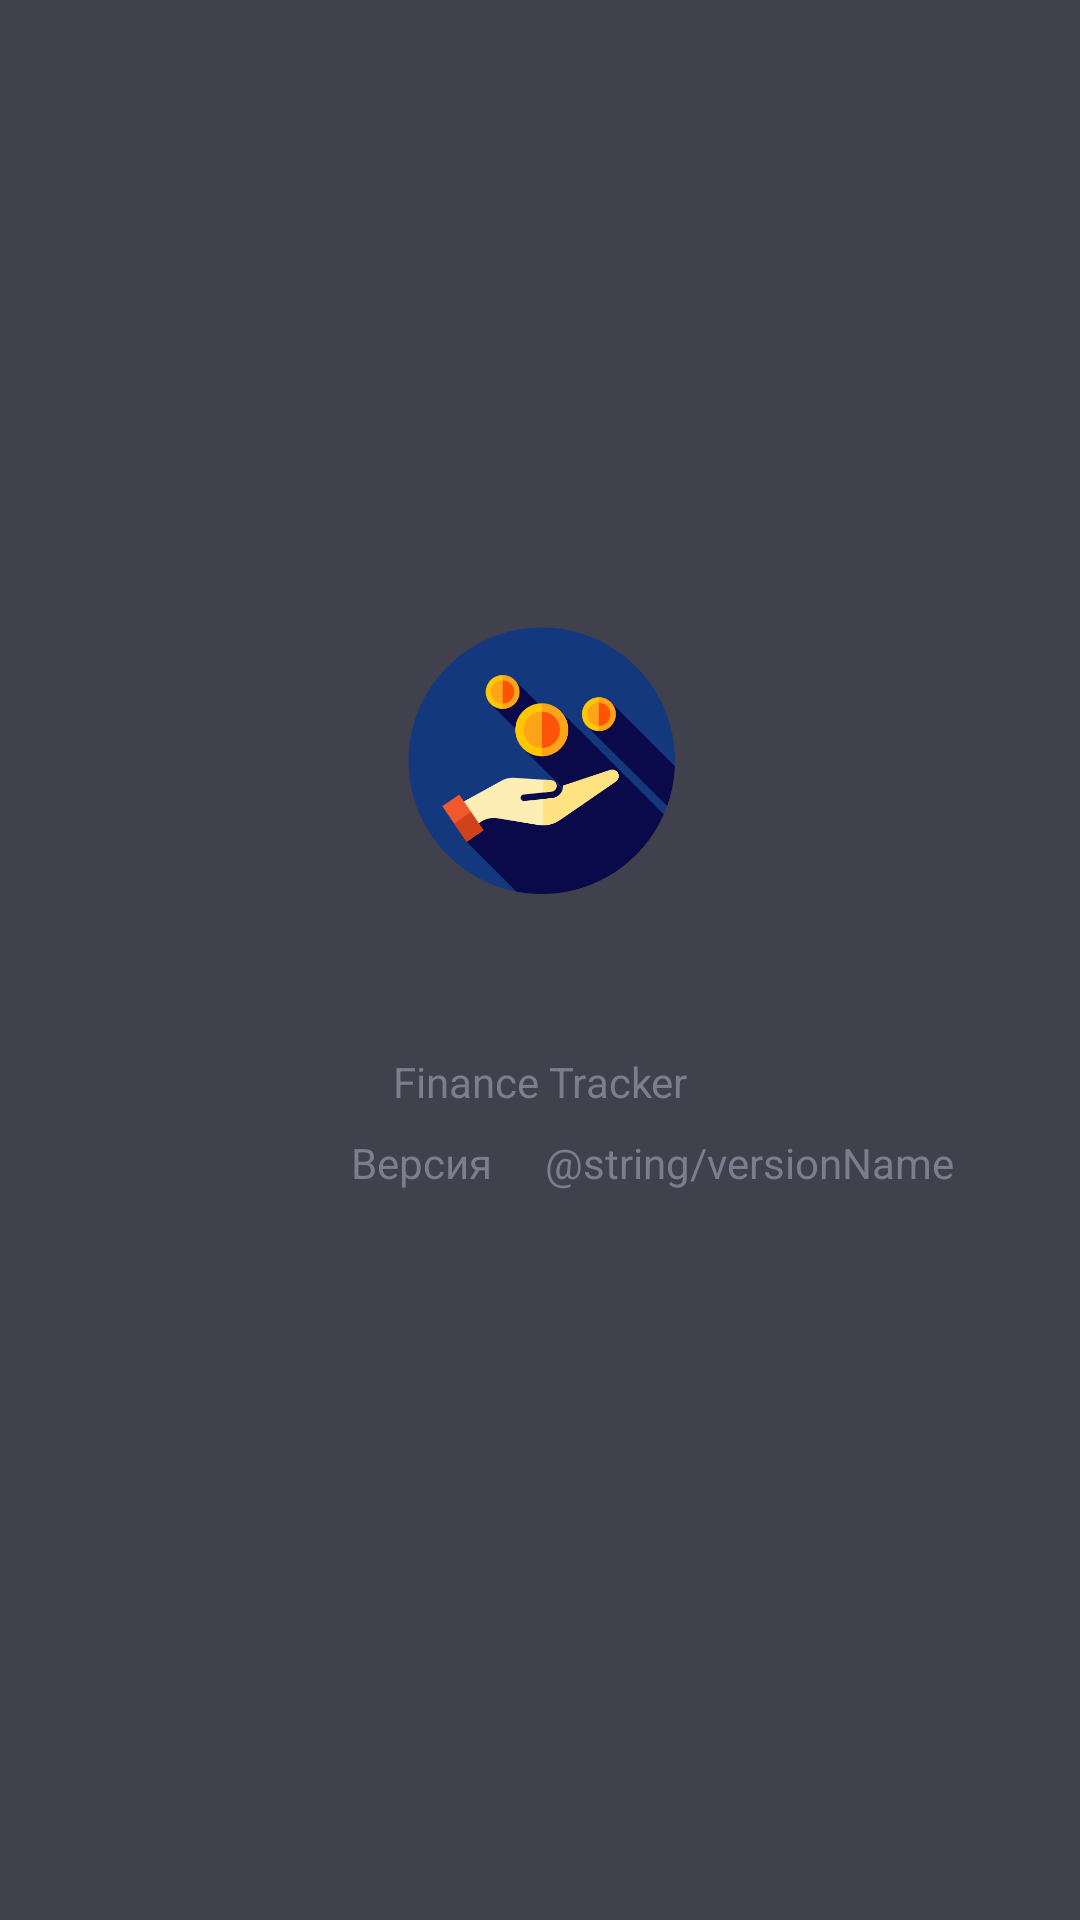

Screen size 1080w x 1920h. Icon name, then its center in pixels as [x,y]:
coins: [542,761]
